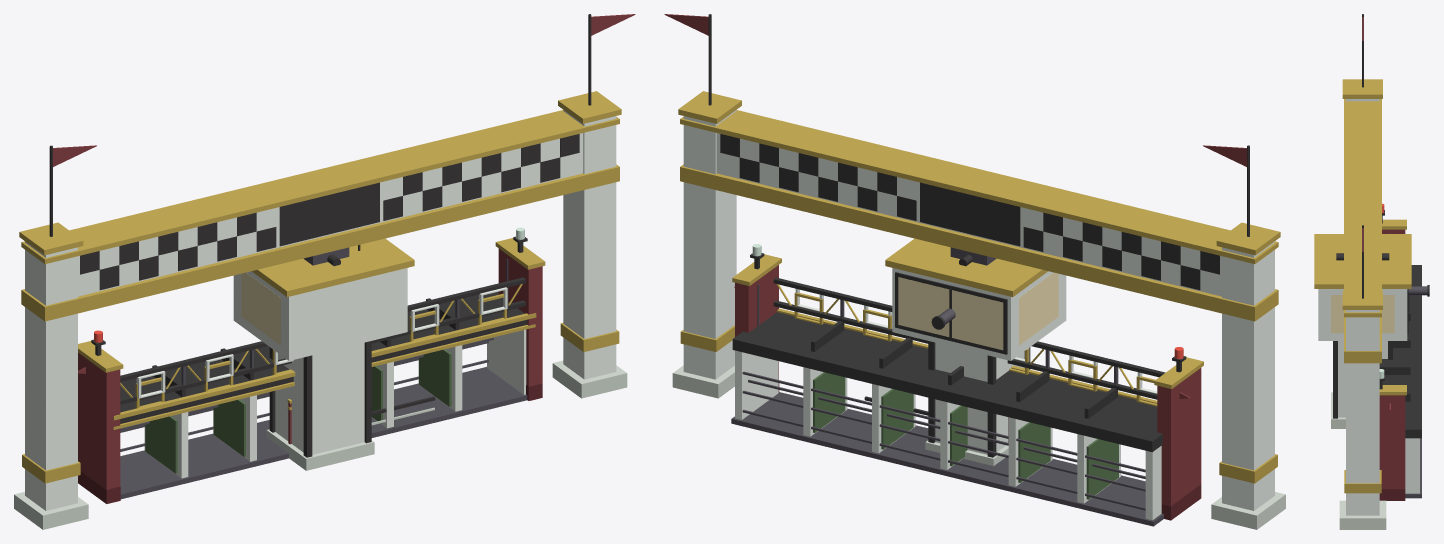
File: downs-course.glb
3 renders of one model, left to right at view 1: azimuth 30°, elevation 25°; view 2: azimuth 150°, elevation 25°; view 3: azimuth 270°, elevation 25°, orthographic. The views are drawn at different scales.
Visible parts, largest first — view 1: dn_finish_arch_mint, dn_finish_arch_gold, dn_photo_tower_mint, dn_finish_arch_check, dn_gate6_frame_a_black2, dn_gate6_frame_b_barn, dn_gate6_frame_a_black, dn_gate6_frame_a_gold, dn_gate6_frame_a_mint, dn_gate6_frame_a_money2, dn_gate6_frame_b_black, dn_photo_tower_gold (+9 smaller); view 2: dn_finish_arch_mint, dn_finish_arch_gold, dn_gate6_frame_a_black, dn_gate6_frame_a_black2, dn_finish_arch_check, dn_gate6_frame_a_mint, dn_gate6_frame_b_barn, dn_photo_tower_glasswarm, dn_gate6_frame_a_money2, dn_photo_tower_mint, dn_gate6_frame_b_black, dn_photo_tower_gold (+7 smaller); view 3: dn_finish_arch_gold, dn_finish_arch_mint, dn_photo_tower_gold, dn_gate6_frame_a_black, dn_gate6_frame_b_barn, dn_photo_tower_mint, dn_photo_tower_glasswarm, dn_finish_arch_mint2, dn_gate6_frame_a_mint, dn_photo_tower_black, dn_gate6_frame_b_gold, dn_gate6_frame_b_black (+5 smaller).
Boxes of the visible parts, <box> form: dn_finish_arch_mint: <box>25,110,616,510</box>; dn_finish_arch_gold: <box>19,91,621,483</box>; dn_photo_tower_mint: <box>233,268,407,454</box>; dn_finish_arch_check: <box>80,134,579,290</box>; dn_gate6_frame_a_black2: <box>120,259,527,499</box>; dn_gate6_frame_b_barn: <box>78,248,542,489</box>; dn_gate6_frame_a_black: <box>120,291,527,423</box>; dn_gate6_frame_a_gold: <box>113,294,536,429</box>; dn_gate6_frame_a_mint: <box>144,329,526,478</box>; dn_gate6_frame_a_money2: <box>145,349,451,473</box>; dn_gate6_frame_b_black: <box>91,236,527,404</box>; dn_photo_tower_gold: <box>252,238,414,296</box>; dn_finish_arch_mint: <box>683,110,1274,510</box>; dn_finish_arch_gold: <box>678,91,1280,483</box>; dn_gate6_frame_a_black: <box>732,312,1162,452</box>; dn_gate6_frame_a_black2: <box>731,284,1163,526</box>; dn_finish_arch_check: <box>720,134,1219,290</box>; dn_gate6_frame_a_mint: <box>735,350,1161,520</box>; dn_gate6_frame_b_barn: <box>735,265,1201,505</box>; dn_photo_tower_glasswarm: <box>898,272,1058,350</box>; dn_gate6_frame_a_money2: <box>813,372,1118,499</box>; dn_photo_tower_mint: <box>892,268,1066,454</box>; dn_gate6_frame_b_black: <box>750,253,1186,418</box>; dn_photo_tower_gold: <box>885,238,1047,296</box>; dn_finish_arch_gold: <box>1342,79,1382,493</box>; dn_finish_arch_mint: <box>1346,99,1379,515</box>; dn_photo_tower_gold: <box>1314,234,1411,288</box>; dn_gate6_frame_a_black: <box>1379,265,1421,438</box>; dn_gate6_frame_b_barn: <box>1379,229,1405,489</box>; dn_photo_tower_mint: <box>1318,289,1407,417</box>; dn_photo_tower_glasswarm: <box>1331,295,1394,333</box>; dn_finish_arch_mint2: <box>1339,500,1386,529</box>; dn_gate6_frame_a_mint: <box>1405,438,1419,493</box>; dn_photo_tower_black: <box>1333,285,1429,418</box>; dn_gate6_frame_b_gold: <box>1379,219,1406,395</box>; dn_gate6_frame_b_black: <box>1379,210,1410,401</box>.
Bounding box in the file's own units: 26.6 × 15.4 × 5.46.
